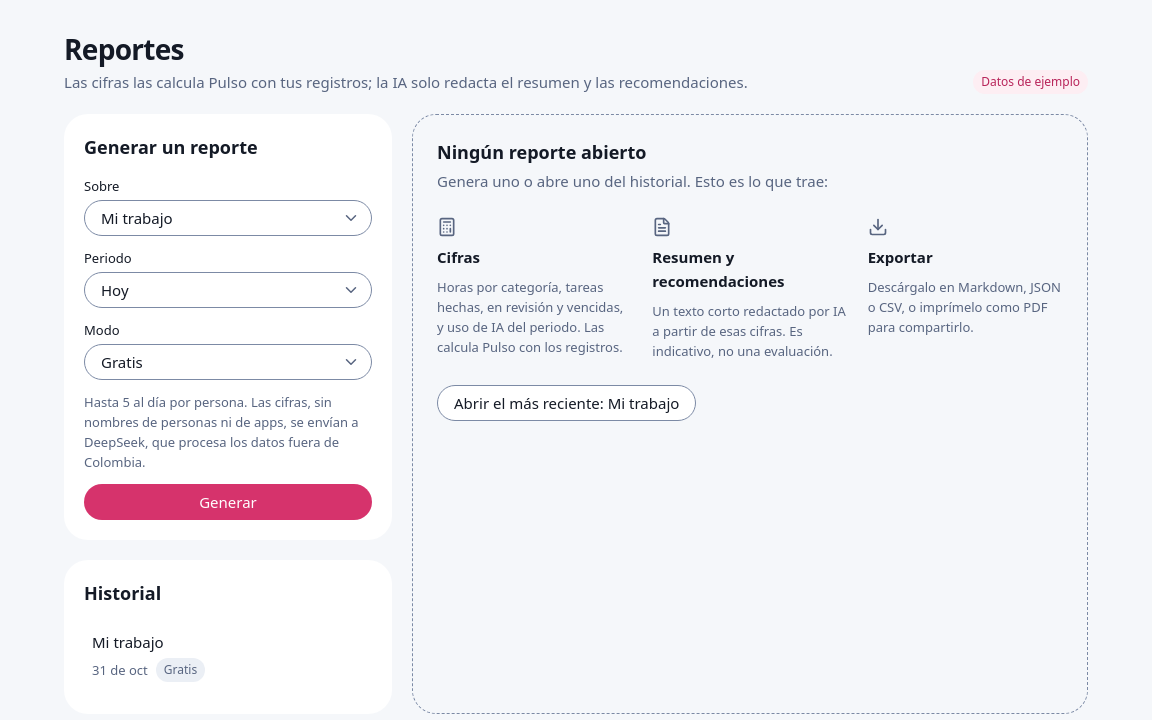
Test: Reportes (F4) › sin reporte abierto, la columna dice qué trae un reporte y ofrece abrir el más reciente
Expected: the text "Resumen y recomendaciones" is shown, [652,247,784,291]
Click the button "Abrir el más reciente: Mi trabajo" at coordinates (567, 403), box [437,385,696,421]
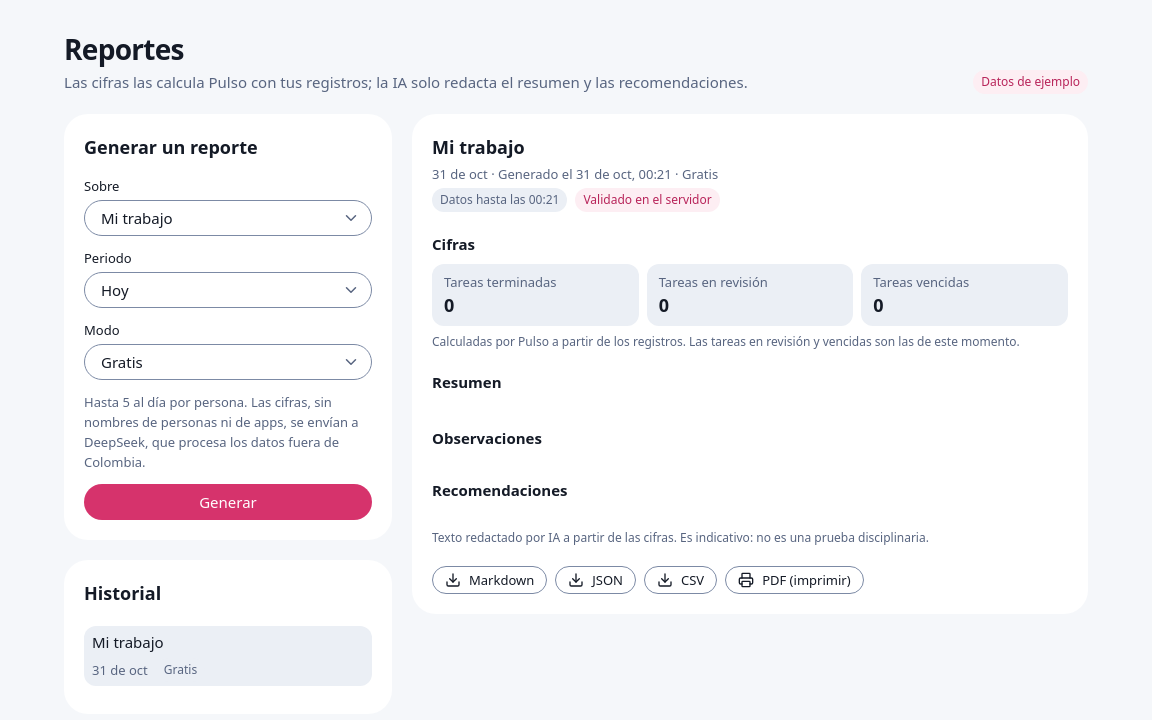
Now the element "Mi trabajo" is shown, box [432,134,1068,594]
Now the heading "Ningún reporte abierto" is gone
